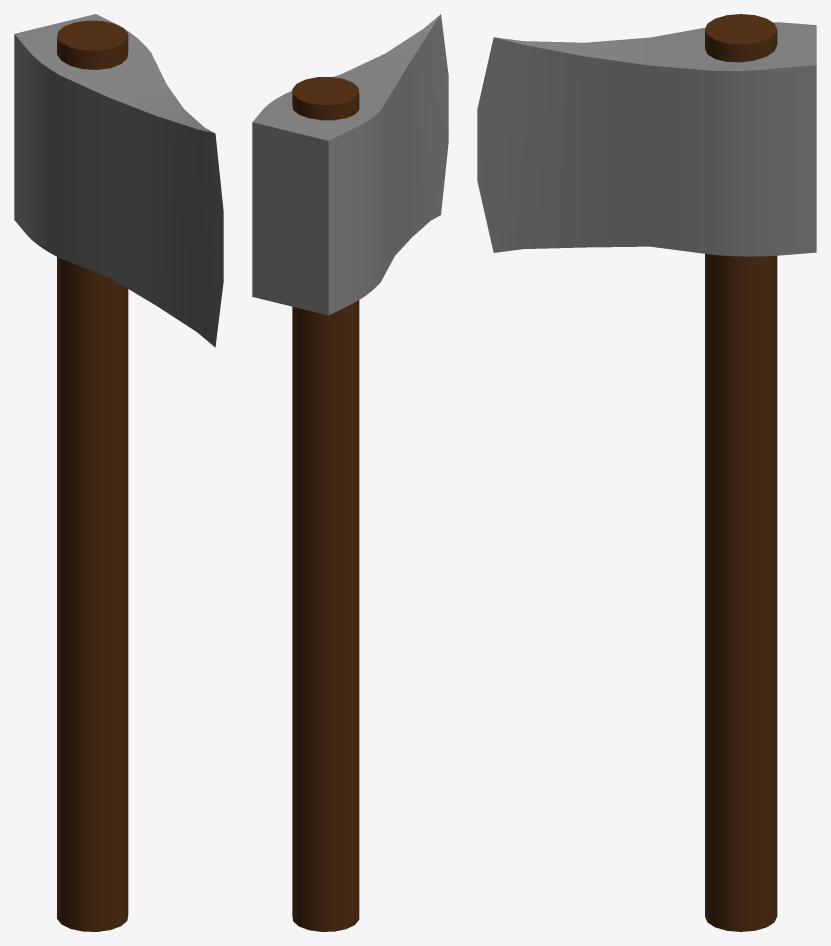
Rendered from axe.glb.
The picture shows the model from 3 angles, left to right: view 1: azimuth 30°, elevation 25°; view 2: azimuth 150°, elevation 25°; view 3: azimuth 270°, elevation 25°; orthographic projection. The views are drawn at different scales.
Parts seen in each view (by area): view 1: Axe, AxeHead; view 2: Axe, AxeHead; view 3: AxeHead, Axe.
Boxes of the visible parts, left/top/right/bottom form: Axe: left=57, top=20, right=128, bottom=931; AxeHead: left=14, top=14, right=223, bottom=347; Axe: left=292, top=77, right=359, bottom=931; AxeHead: left=252, top=14, right=448, bottom=315; AxeHead: left=477, top=22, right=816, bottom=256; Axe: left=705, top=14, right=777, bottom=931.
Bounding box in the file's own units: 0.31 × 2.68 × 0.9277.
